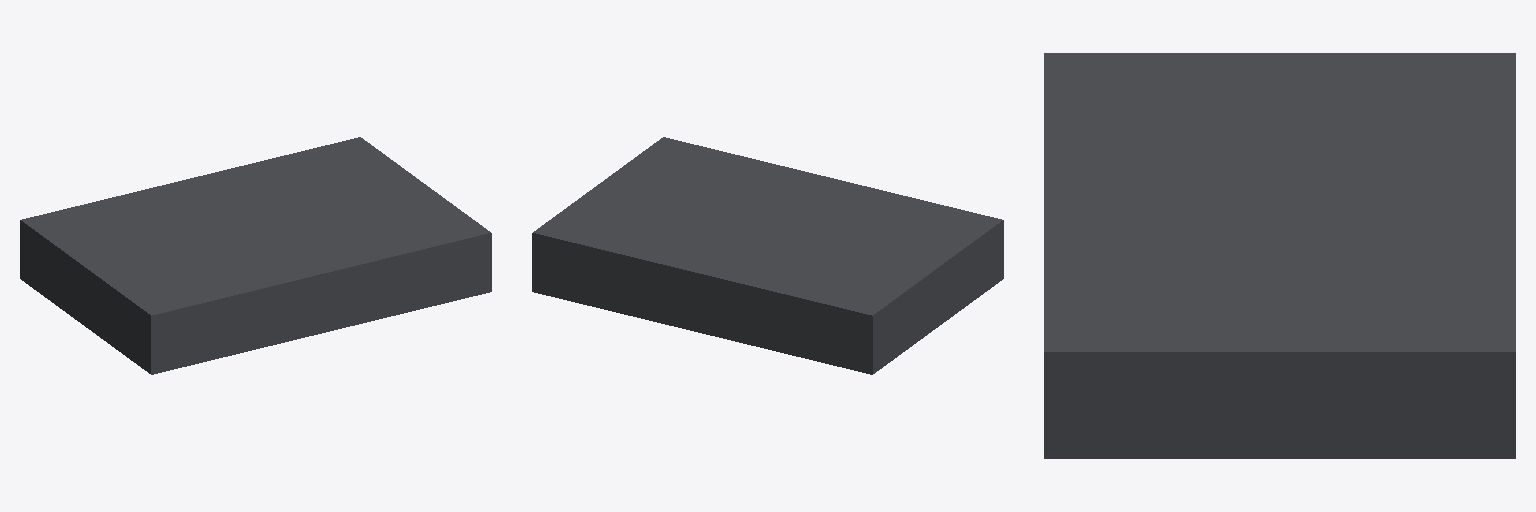
URDF robot description (robot):
<?xml version="1.0" ?>
<robot name="robot">
    <link name="base_link">
        <inertial>
            <mass value="0" />
            <inertia ixx = "0" ixy = "0" ixz = "0"
                iyx = "0" iyy = "0" iyz = "0"
                izx = "0" izy = "0" izz = "0" />
        </inertial>
    </link>
    <joint name="center_z" type="prismatic">
        <parent link="base_link"/>
        <child link="y_control"/>
        <axis xyz="0 0 1"/>
        <limit effort="1000.0" lower="-0.1" upper="1.1" velocity="0.2"/>
    </joint>
    <link name="y_control">
        <inertial>
            <mass value="0.1" />
            <inertia ixx = "0" ixy = "0" ixz = "0"
                iyx = "0" iyy = "0" iyz = "0"
                izx = "0" izy = "0" izz = "0" />
        </inertial>
    </link>
    <joint name="center_y" type="prismatic">
        <parent link="y_control"/>
        <child link="x_control"/>
        <axis xyz="0 1 0"/>
        <limit effort="1000.0" lower="-1" upper="1" velocity="0.2"/>
    </joint>
    <link name="x_control">
        <inertial>
            <mass value="0.1" />
            <inertia ixx = "0" ixy = "0" ixz = "0"
                iyx = "0" iyy = "0" iyz = "0"
                izx = "0" izy = "0" izz = "0" />
        </inertial>
    </link>
    <joint name="center_x" type="prismatic">
        <parent link="x_control"/>
        <child link="roll_control"/>
        <axis xyz="1 0 0"/>
        <limit effort="1000.0" lower="-1" upper="1" velocity="0.2"/>
    </joint>
    <link name="roll_control">
        <inertial>
            <mass value="0.1" />
            <inertia ixx = "0" ixy = "0" ixz = "0"
                iyx = "0" iyy = "0" iyz = "0"
                izx = "0" izy = "0" izz = "0" />
        </inertial>
    </link>
    <joint name="gripper_roll" type="revolute">
        <parent link="roll_control"/>
        <child link="gripper_link"/>
        <axis xyz="0 0 1"/>
        <limit lower="-31.4" upper="31.4" velocity="3.14" effort="10000"/>
    </joint>
    <link name="gripper_link">
        <inertial>
            <origin rpy="0 0 0" xyz="0 0 0" />
            <mass value="1" />
            <inertia ixx="0" ixy="0" ixz="0" iyy="0" iyz="0" izz="0" />
        </inertial>
        <visual>
            <origin rpy="0 0 0" xyz="0 0 0" />
            <geometry>
                <box size="0.06 0.04 0.01"/>  
            </geometry>
            <material name="a">
                <color rgba="0.356 0.361 0.376 1" />
            </material>
        </visual>
        <collision>
            <origin rpy="0 0 0" xyz="0 0 0" />
            <geometry>
                <box size="0.06 0.04 0.01"/>
            </geometry>
        </collision>
    </link>
</robot>

--- Render facts (derived) ---
Views: 3 orthographic renders of the robot side by side, from view 1: azimuth 30°, elevation 25°; view 2: azimuth 150°, elevation 25°; view 3: azimuth 270°, elevation 25°.
Model robot with 5 links and 4 joints (1 revolute, 3 prismatic), rooted at base_link, posed every joint at zero.
Links seen in each view (by area): view 1: gripper_link; view 2: gripper_link; view 3: gripper_link.
Link boxes in pixels (<box>): gripper_link: <box>20,137,491,374</box>; gripper_link: <box>532,137,1003,374</box>; gripper_link: <box>1044,53,1515,458</box>.
Bounding box of the posed robot: 0.06 × 0.04 × 0.01 m (x, y, z).
Geometry: primitives only (box / cylinder / sphere), no mesh files.